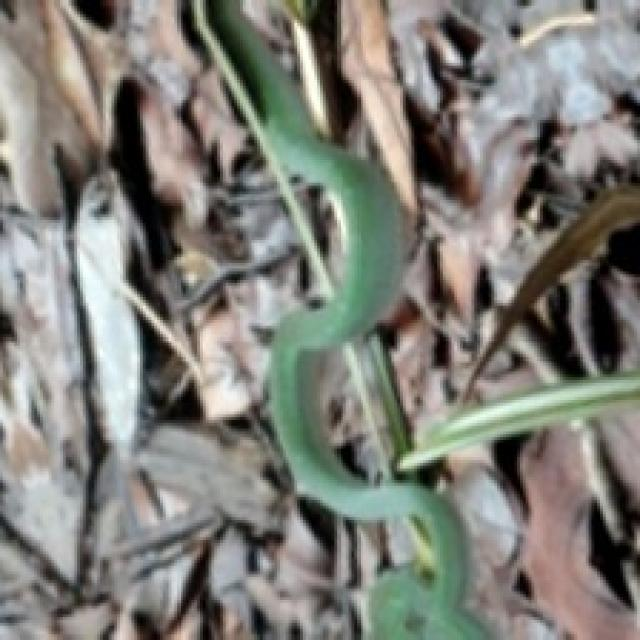north ph temple pitviper: (191, 0, 486, 637)
